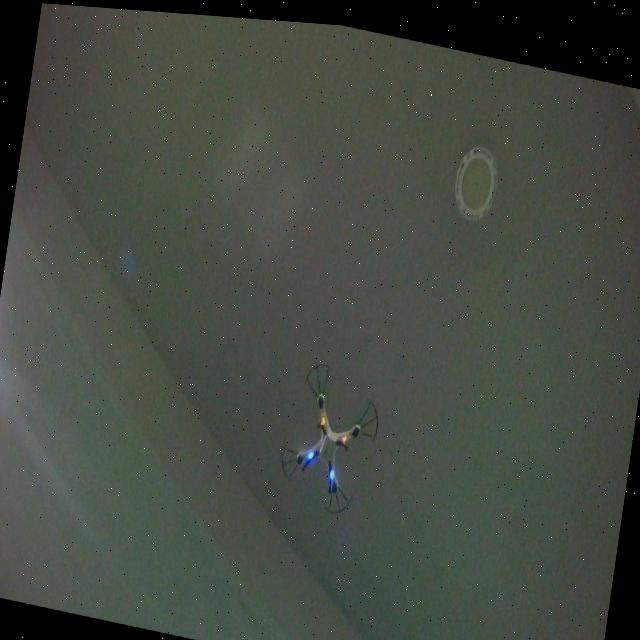drone: (271, 348, 389, 521)
